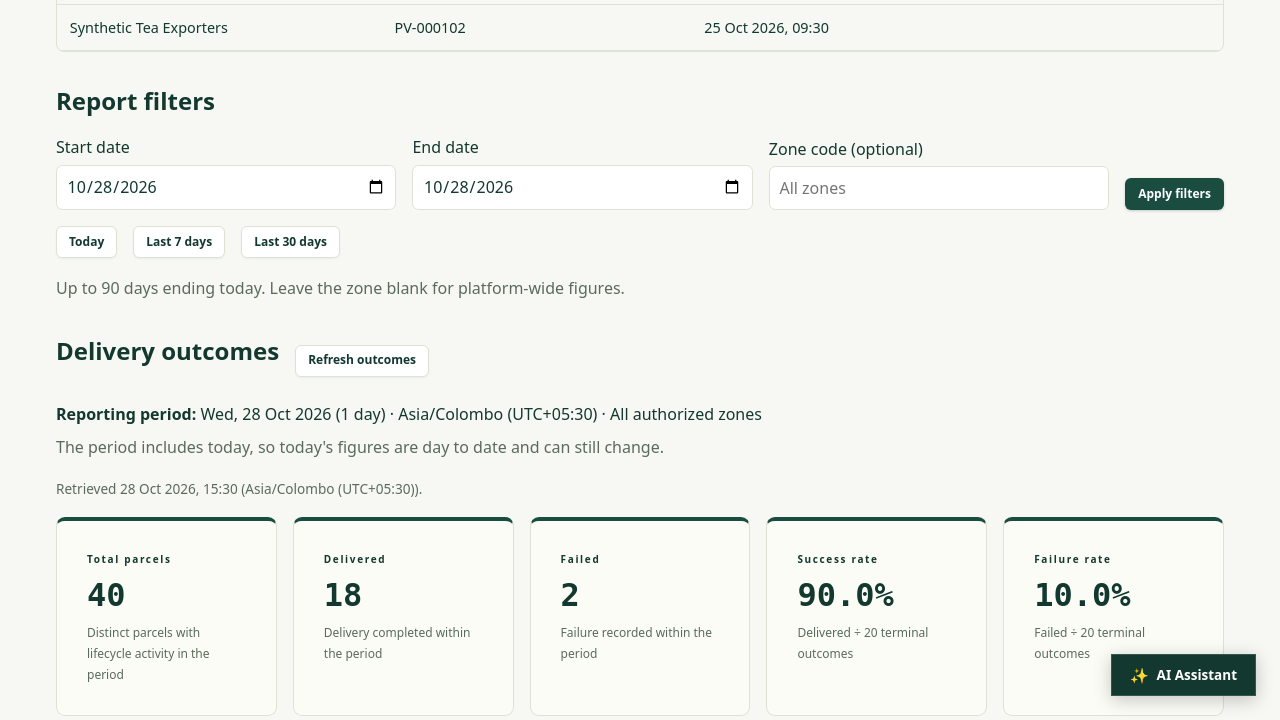
it: admin daily outcomes and report screens › hides previously shown figures when a refresh fails, so stale data is not presented as current
(page scrolled)
Expected: the text "90.0%" is shown, [797,576,894,614]
Click the button "Refresh outcomes": (362, 360) [295,344,429,376]
(page scrolled)
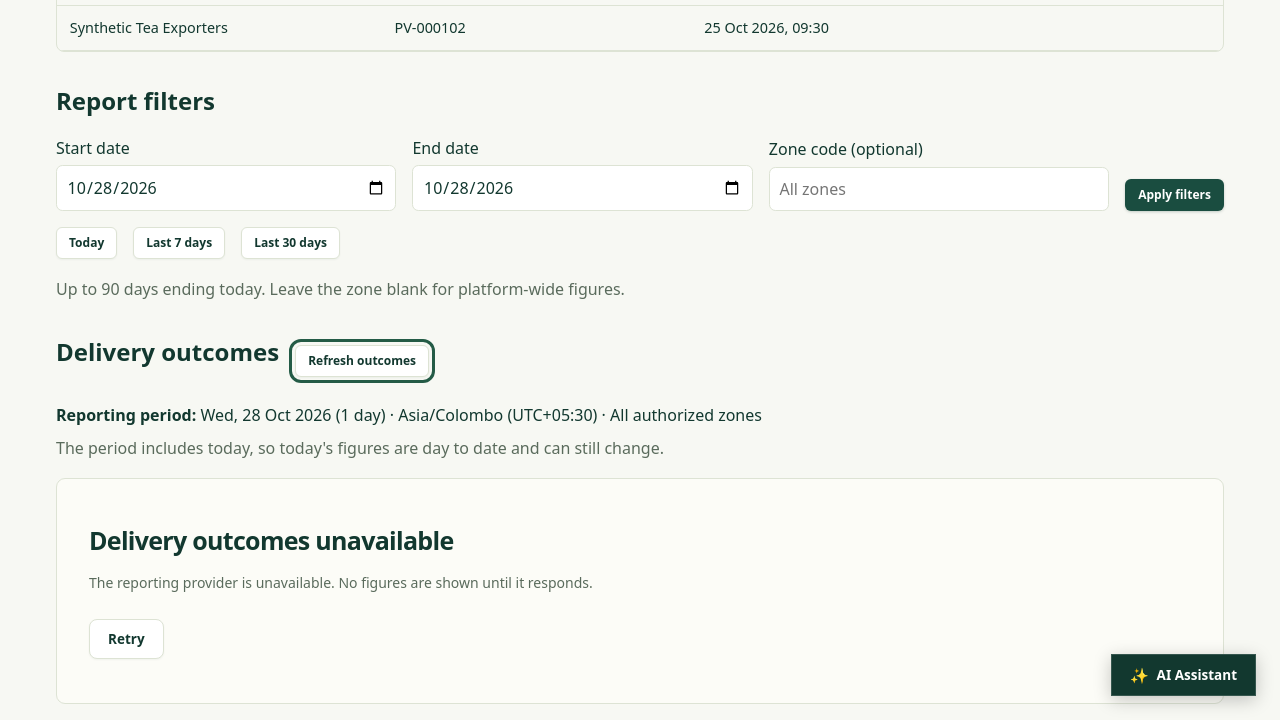
Now the element "Delivery outcomes unavailable" is shown, box [56,478,1224,704]
Now the text "90.0%" is gone
